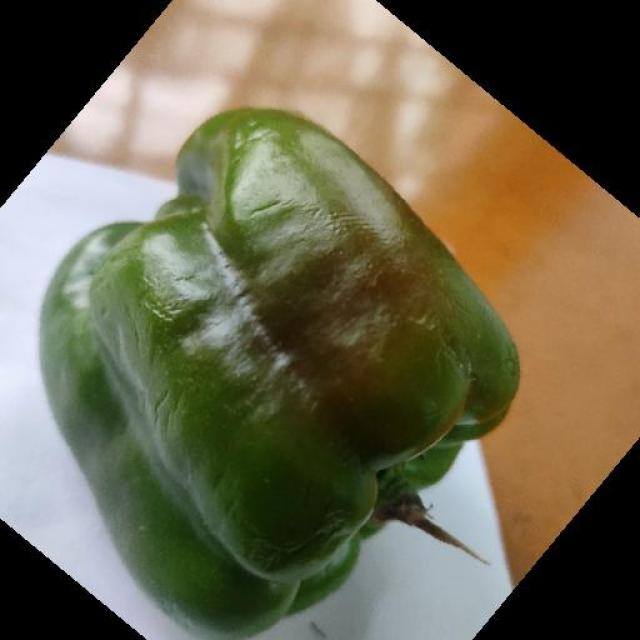Stale_Capsicum: (27, 179, 487, 637)
